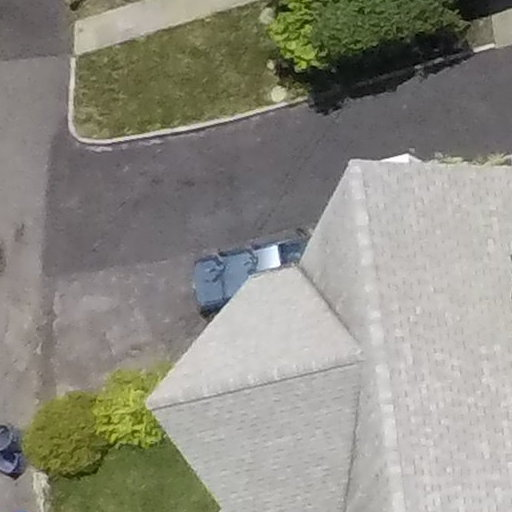trash bin: (1, 423, 31, 482)
